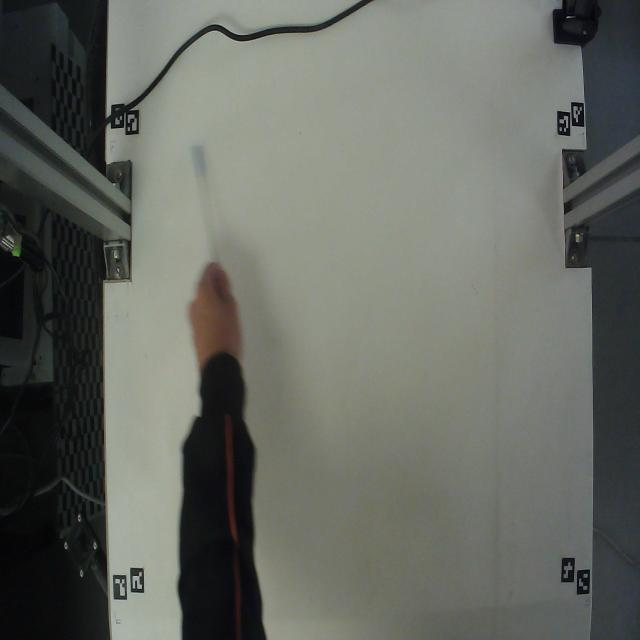NoPres: (188, 130, 231, 272)
